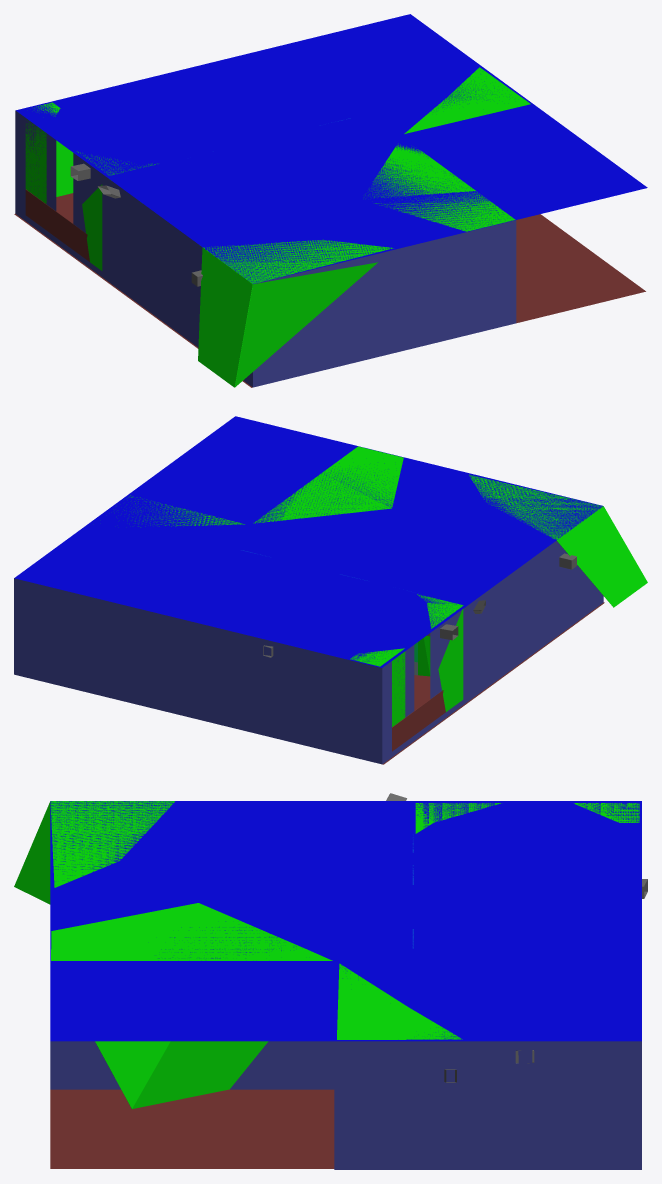
File: Nivel_Tuto_V2 (1).fbx
3 renders of one model, top to bottom at view 1: azimuth 30°, elevation 25°; view 2: azimuth 150°, elevation 25°; view 3: azimuth 270°, elevation 25°, orthographic. The views are drawn at different scales.
Visible parts, largest first — view 1: Nivel_Tuto; view 2: Nivel_Tuto; view 3: Nivel_Tuto.
Part boxes in pixels (x1,y1,x2,y2): Nivel_Tuto: [14, 14, 647, 387]; Nivel_Tuto: [14, 416, 647, 764]; Nivel_Tuto: [14, 793, 647, 1169].
Bounding box in the file's own units: 13.07 × 3.93 × 13.39.
